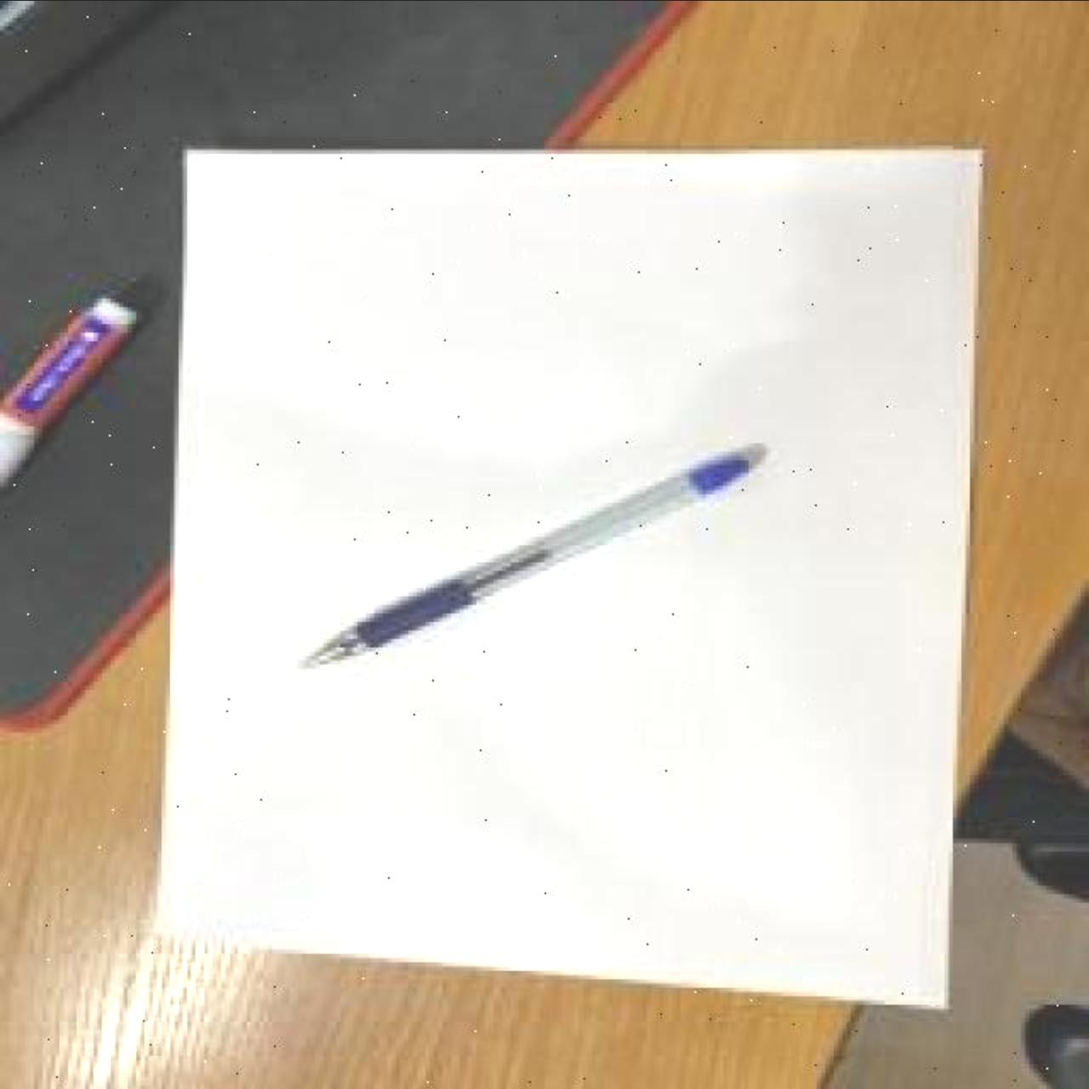pen: (289, 451, 757, 672)
